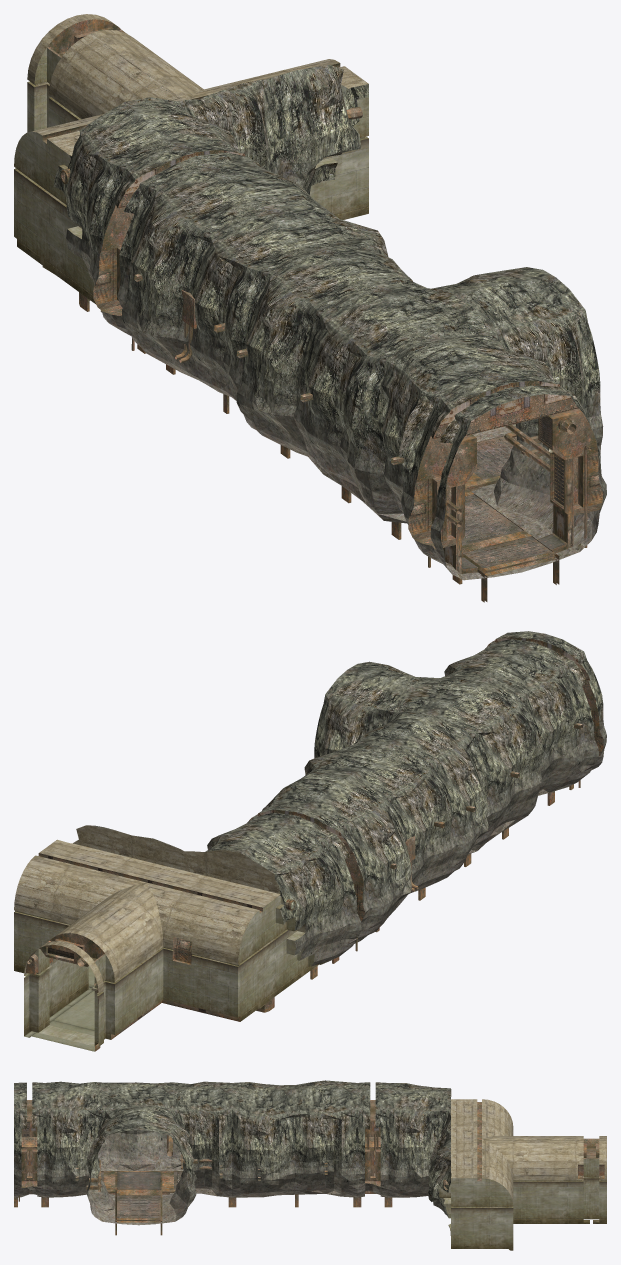
File: poi_all_bunker_mad_bio_s01_r33_intersection6_mesh_r33.fbx
3 renders of one model, top to bottom at view 1: azimuth 30°, elevation 25°; view 2: azimuth 150°, elevation 25°; view 3: azimuth 270°, elevation 25°, orthographic. The views are drawn at different scales.
Parts seen in each view (by area): view 1: mesh_node; view 2: mesh_node; view 3: mesh_node.
Part boxes in pixels (left/top/right/bottom): mesh_node: left=14, top=14, right=606, bottom=602; mesh_node: left=14, top=631, right=606, bottom=1051; mesh_node: left=14, top=1080, right=606, bottom=1250.
Bounding box in the file's own units: 14.03 × 7.73 × 38.
